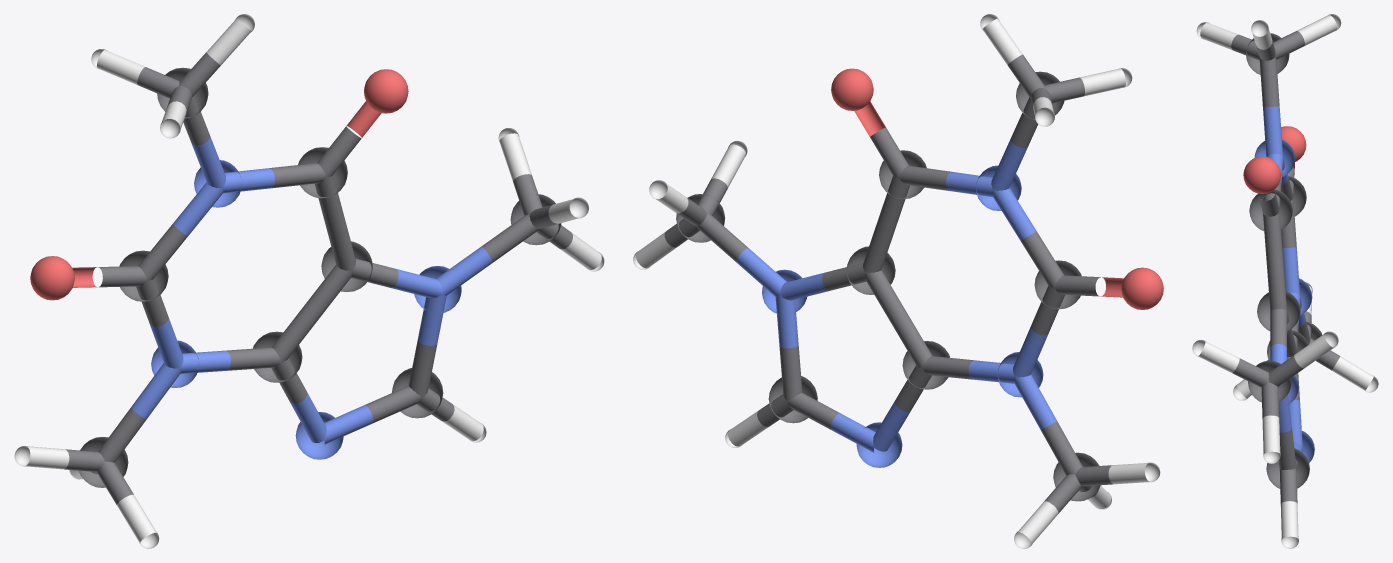
The model's file is caffeine2.glb.
3 views of the same model, side by side, from view 1: azimuth 30°, elevation 25°; view 2: azimuth 150°, elevation 25°; view 3: azimuth 270°, elevation 25° (orthographic). The views are drawn at different scales.
Parts seen in each view (by area): view 1: caffeine; view 2: caffeine; view 3: caffeine.
Boxes of the visible parts, left/top/right/bottom form: caffeine: left=14, top=14, right=604, bottom=548; caffeine: left=633, top=14, right=1163, bottom=548; caffeine: left=1192, top=14, right=1378, bottom=548.
Size of the model in its own units: 7.74 by 6.52 by 2.59.
